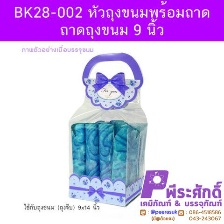snack: (56, 43, 154, 212)
